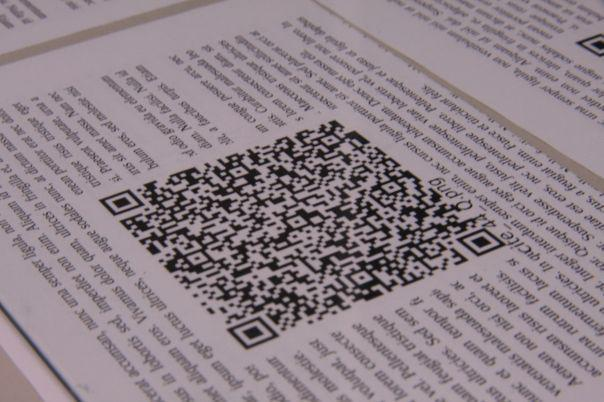Finder pattern: (227, 314, 284, 353), (456, 224, 507, 259), (100, 189, 145, 217)
